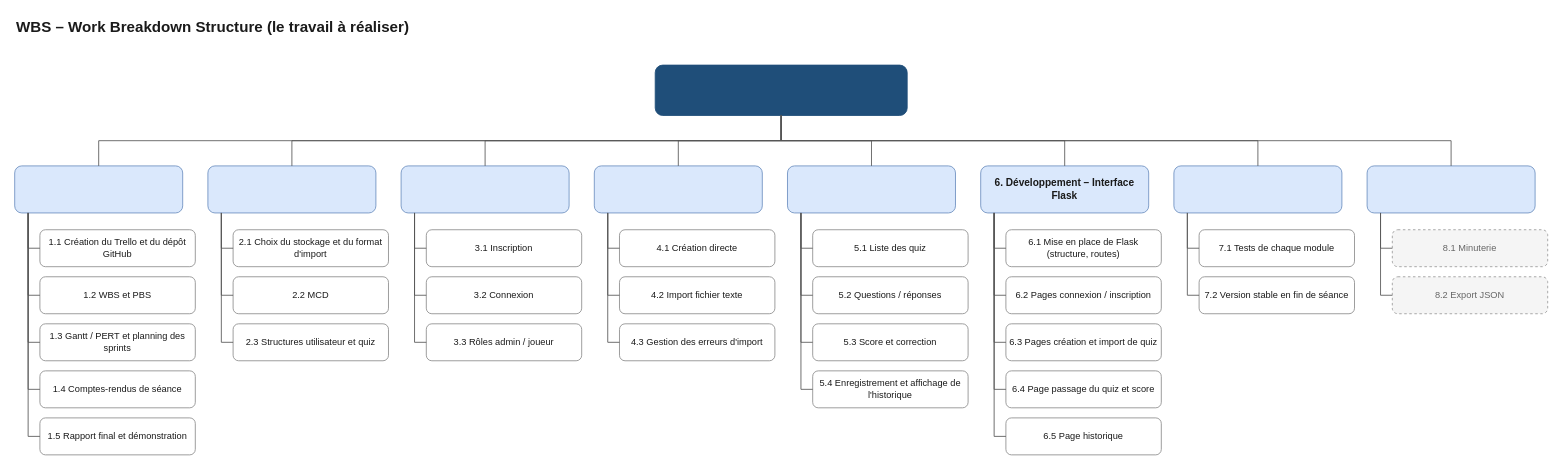
Image size: 1562x470. Some labels were removed from this diagram. The centre of each missing label's shape, as x and y in pixels:
1. Gestion de projet: the point at 98,189
2. Conception: the point at 291,189
3. Développement – Comptes: the point at 484,189
4. Développement – Quiz: the point at 677,189
5. Développement – Passage et historique: the point at 871,189
7. Tests et intégration: the point at 1257,189
8. Bonus: the point at 1450,189
Projet Application Quiz Python: the point at 780,90
